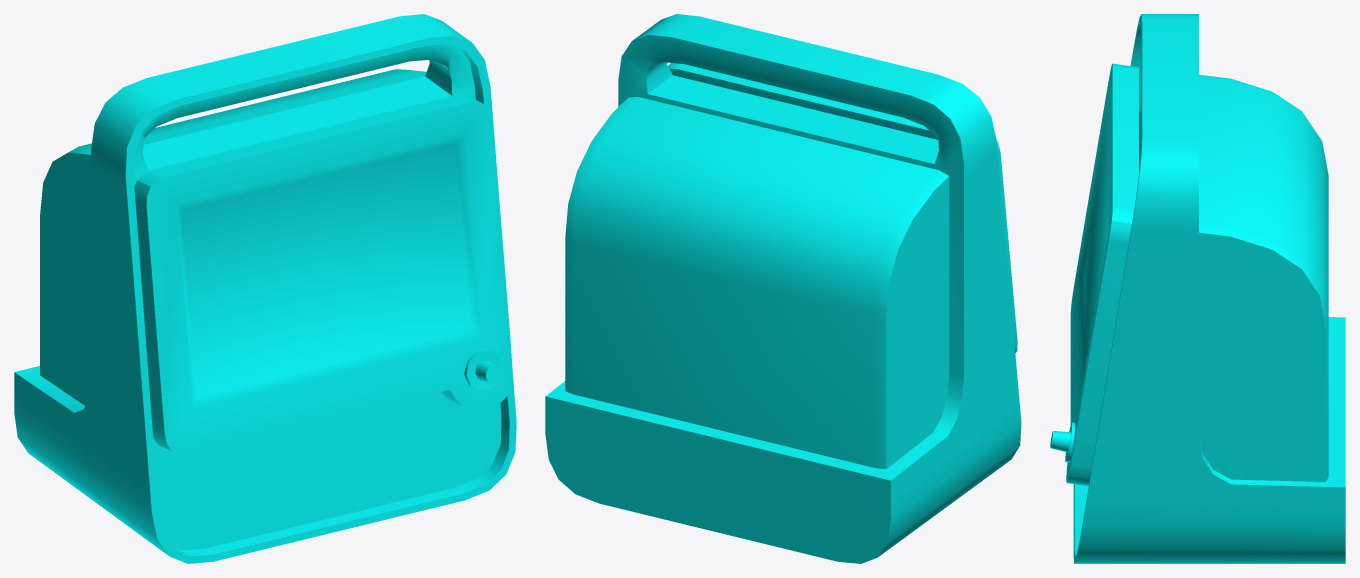
Rendered from SM_Monitor_01c.FBX.
3 views of the same model, side by side, from view 1: azimuth 30°, elevation 25°; view 2: azimuth 150°, elevation 25°; view 3: azimuth 270°, elevation 25° (orthographic). The views are drawn at different scales.
Parts seen in each view (by area): view 1: SM_Monitor_01c_LOD0; view 2: SM_Monitor_01c_LOD0; view 3: SM_Monitor_01c_LOD0.
Boxes of the visible parts, x1,y1,x2,y2 form: SM_Monitor_01c_LOD0: (14,14,516,563); SM_Monitor_01c_LOD0: (545,14,1021,563); SM_Monitor_01c_LOD0: (1050,14,1345,563).
Size of what is drawn, in the model's own units: 34.2 by 39.06 by 25.13.
